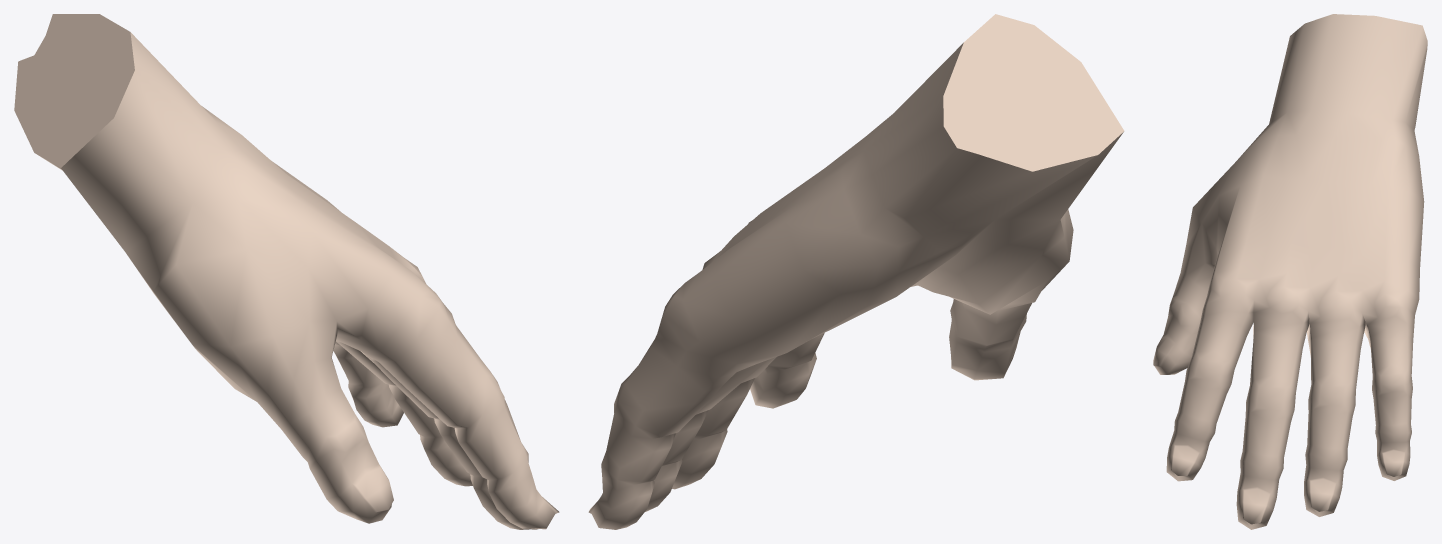
File: LeftHand.fbx
3 views of the same model, side by side, from view 1: azimuth 30°, elevation 25°; view 2: azimuth 150°, elevation 25°; view 3: azimuth 270°, elevation 25° (orthographic). The views are drawn at different scales.
Parts seen in each view (by area): view 1: Suruj; view 2: Suruj; view 3: Suruj.
Part boxes in pixels (bbox=[...]): Suruj: bbox=[14, 14, 559, 529]; Suruj: bbox=[588, 14, 1124, 529]; Suruj: bbox=[1153, 14, 1427, 529].
Bounding box in the file's own units: 0.2534 × 0.2871 × 0.182.
